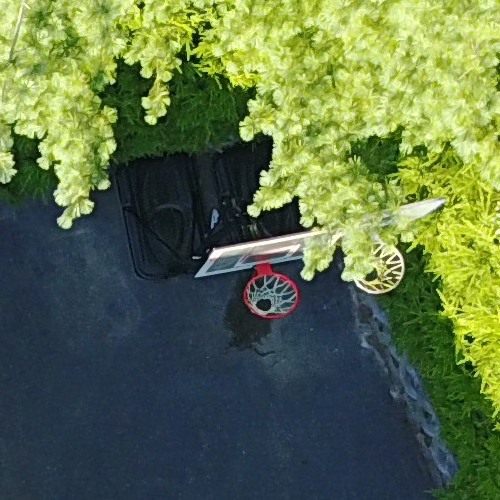basketball: (204, 121, 454, 321), (114, 139, 339, 323)
no larvae: (202, 119, 452, 319), (114, 139, 342, 326)
